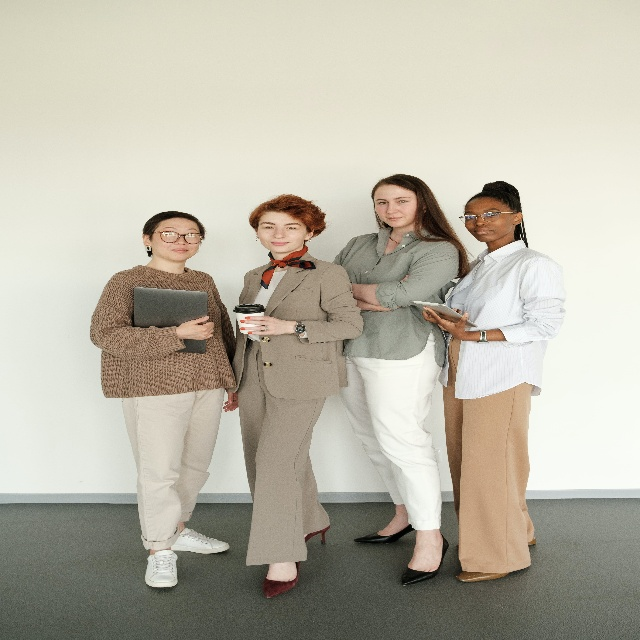Gafas: (147, 229, 204, 245), (458, 211, 518, 225)
Sin_guantes: (421, 303, 469, 341), (175, 311, 214, 341), (239, 314, 289, 336), (222, 387, 238, 413)
